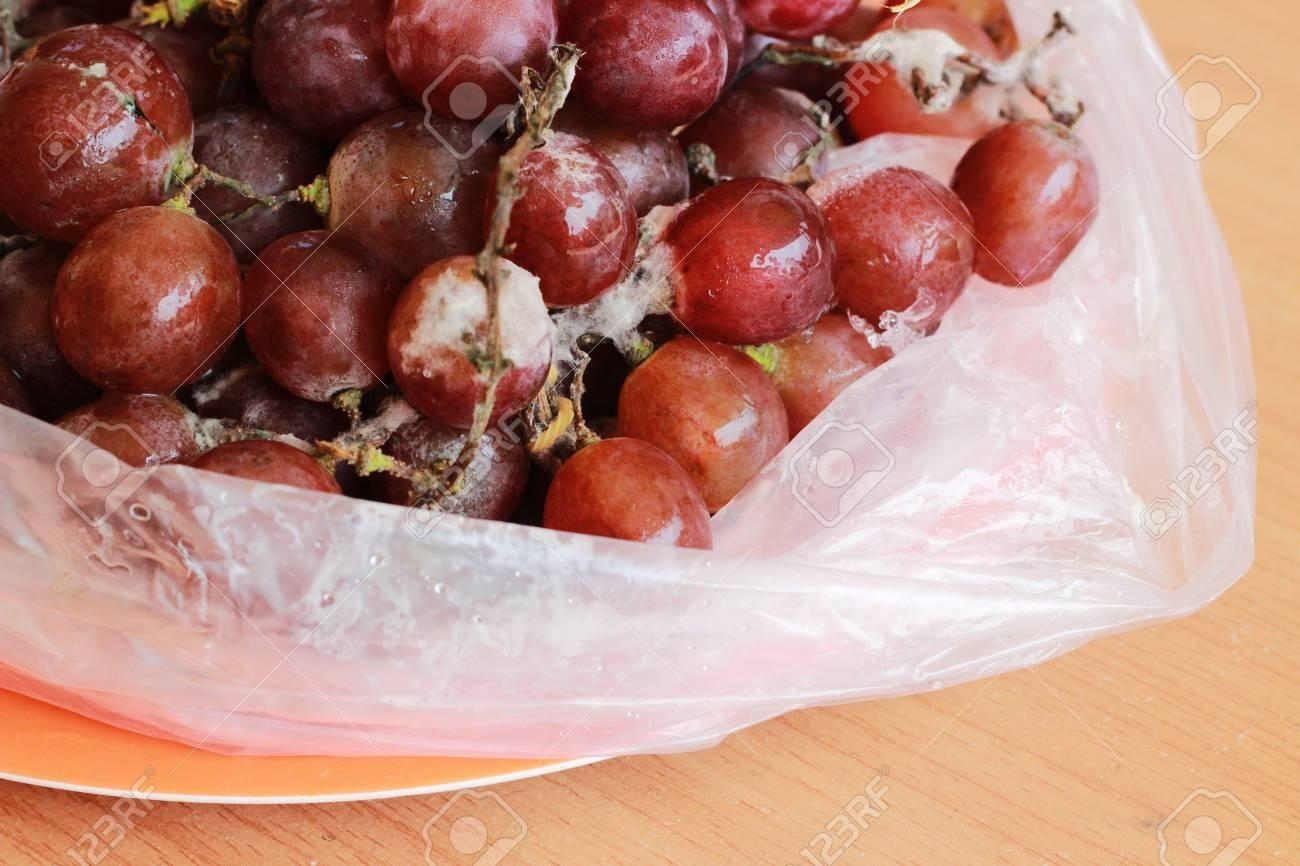Grape Rotten: (1, 1, 1100, 551)
